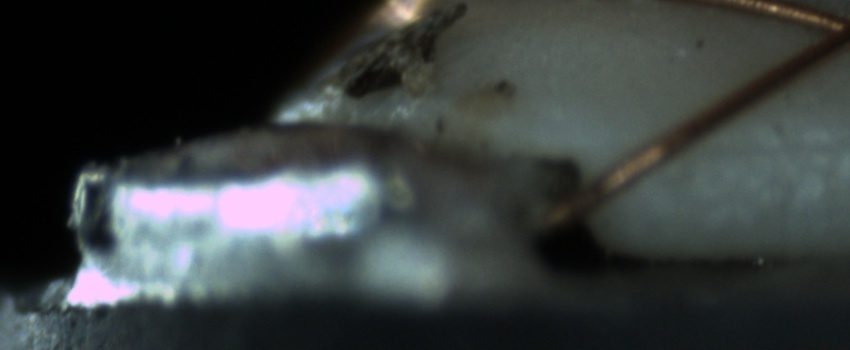CL: (798, 2, 850, 62)
DL: (685, 115, 850, 175)
